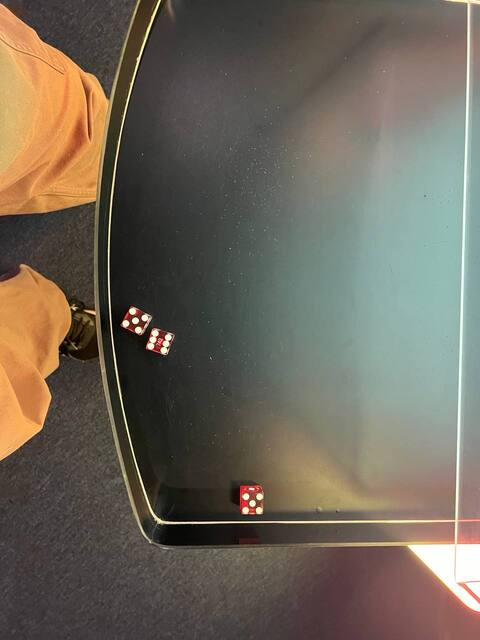five: (117, 305, 152, 336), (237, 490, 266, 519)
six: (143, 325, 176, 357)
